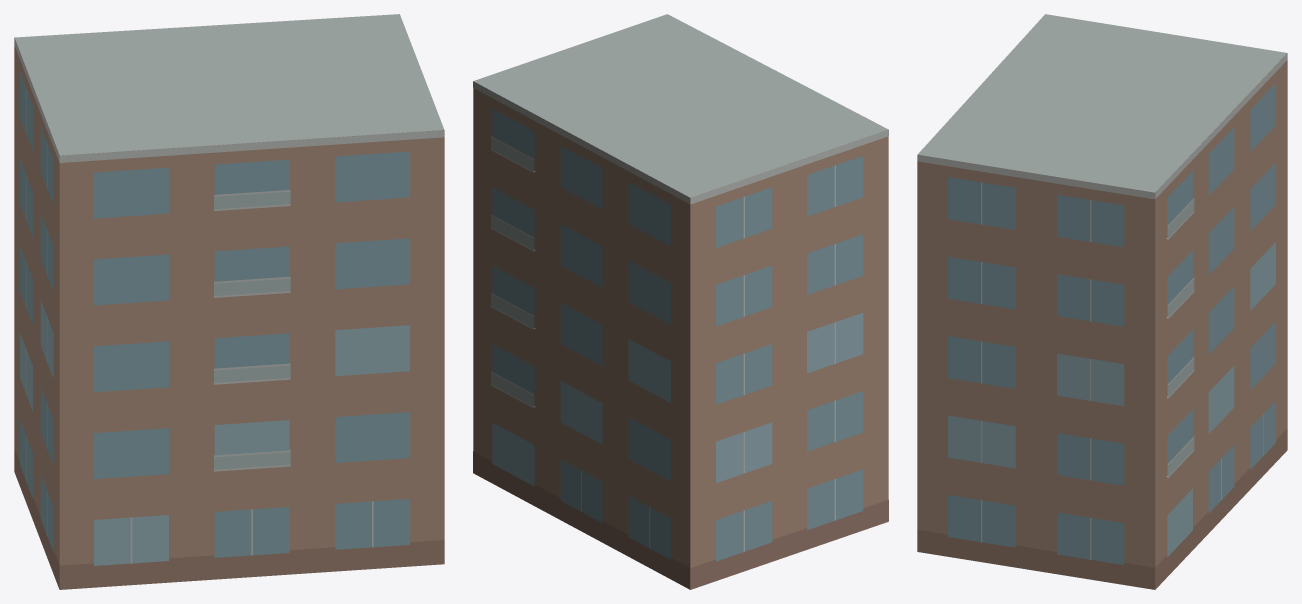
The model's file is survey-upis-32996683.glb.
The picture shows the model from 3 angles, left to right: view 1: azimuth 30°, elevation 25°; view 2: azimuth 150°, elevation 25°; view 3: azimuth 270°, elevation 25°; orthographic projection. The views are drawn at different scales.
Parts seen in each view (by area): view 1: survey-upis-32996683.tmp; view 2: survey-upis-32996683.tmp; view 3: survey-upis-32996683.tmp.
Part boxes in pixels (bbox=[...]): survey-upis-32996683.tmp: bbox=[14, 14, 444, 589]; survey-upis-32996683.tmp: bbox=[473, 14, 888, 589]; survey-upis-32996683.tmp: bbox=[917, 14, 1287, 589].
Bounding box in the file's own units: 13.9 × 14.4 × 12.17.
